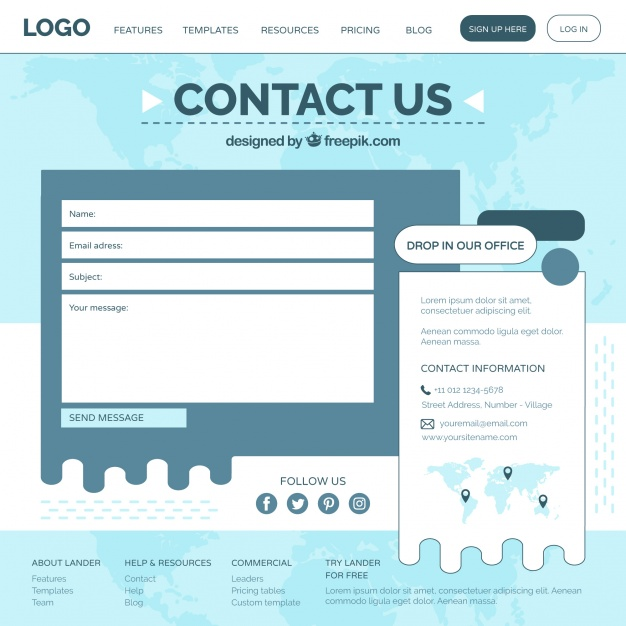_form_: (53, 185, 397, 438), (305, 408, 602, 624), (62, 2, 389, 193), (378, 206, 591, 283), (413, 1, 626, 77)
button: (392, 224, 538, 265), (58, 407, 191, 429), (458, 13, 538, 44), (545, 13, 601, 42)
field: (59, 292, 376, 404), (60, 197, 377, 229), (60, 229, 376, 260), (60, 261, 376, 291)
